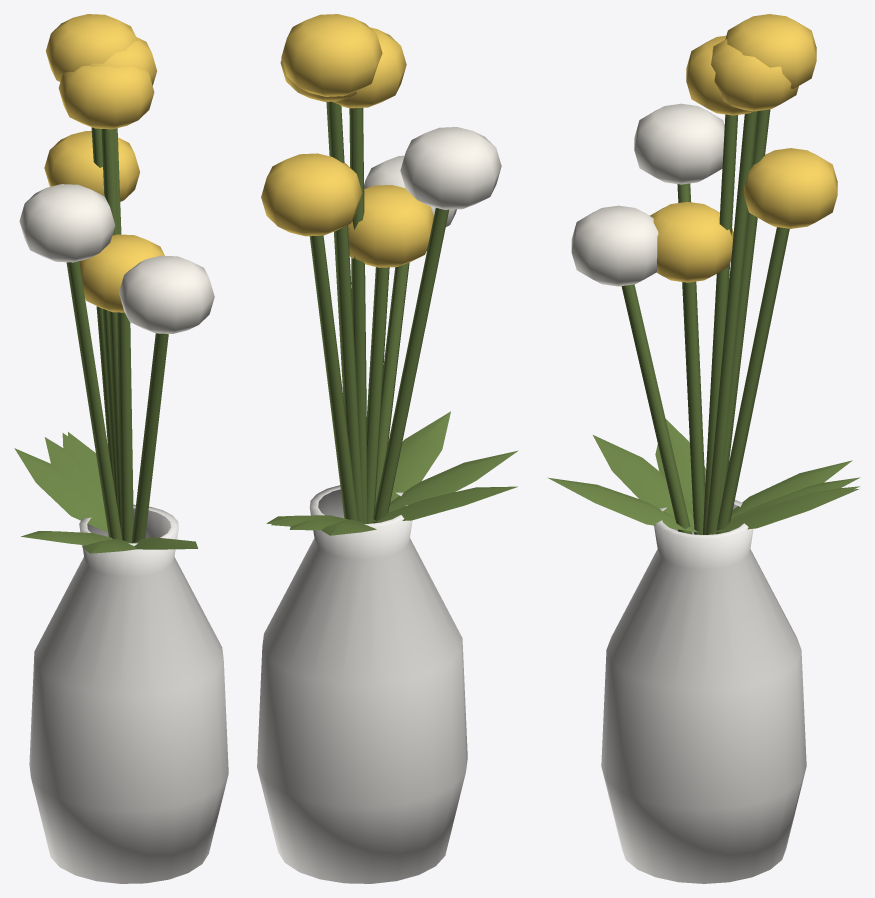
Rendered from vase_flowers.glb.
3 views of the same model, side by side, from view 1: azimuth 30°, elevation 25°; view 2: azimuth 150°, elevation 25°; view 3: azimuth 270°, elevation 25° (orthographic). The views are drawn at different scales.
Parts seen in each view (by area): view 1: vase_flowers_vase, vase_flowers_flowers, vase_flowers_stems; view 2: vase_flowers_vase, vase_flowers_stems, vase_flowers_flowers; view 3: vase_flowers_vase, vase_flowers_flowers, vase_flowers_stems.
Part boxes in pixels (left/top/right/bottom): vase_flowers_vase: left=29, top=504, right=228, bottom=883; vase_flowers_flowers: left=19, top=14, right=214, bottom=333; vase_flowers_stems: left=14, top=127, right=198, bottom=553; vase_flowers_vase: left=257, top=485, right=467, bottom=883; vase_flowers_stems: left=266, top=101, right=518, bottom=535; vase_flowers_flowers: left=261, top=14, right=501, bottom=267; vase_flowers_vase: left=601, top=500, right=806, bottom=883; vase_flowers_flowers: left=571, top=14, right=837, bottom=286; vase_flowers_stems: left=547, top=109, right=860, bottom=534.
Size of the model in its own units: 0.0903 by 0.3228 by 0.1113.
